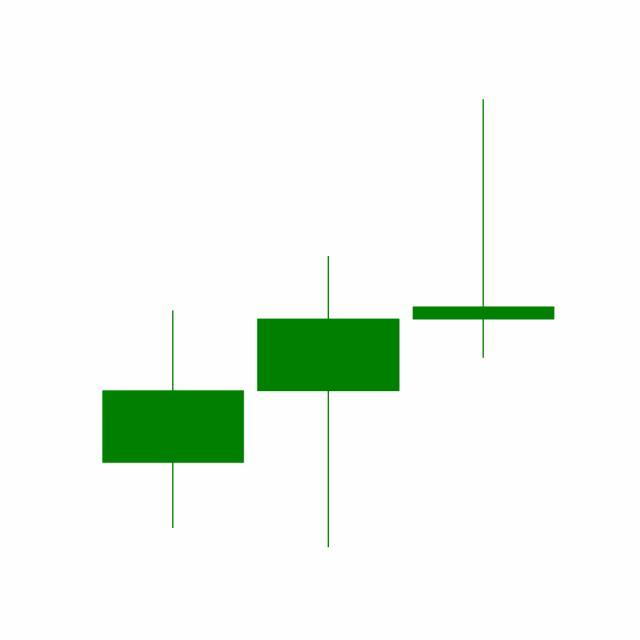Spinning Top: (406, 97, 562, 362)
